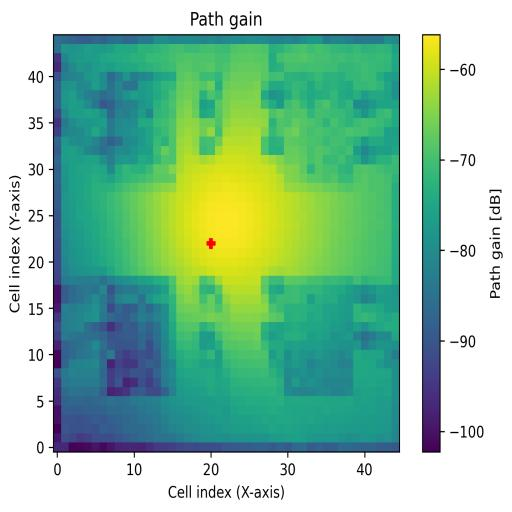Concrete: (284, 73, 355, 182)
Glass: (108, 72, 176, 183)
Metal: (283, 277, 353, 395)
Wood: (101, 276, 176, 397)
